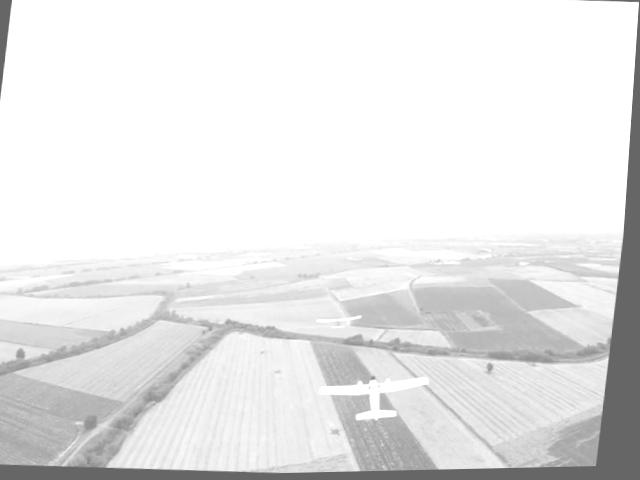hedef: (313, 362, 441, 443)
